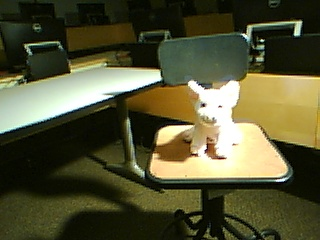piggy: (183, 79, 243, 160)
